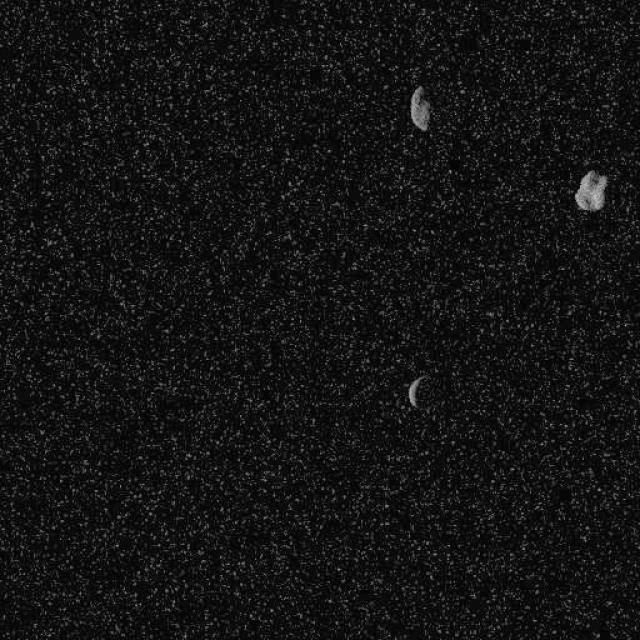D2: (574, 169, 608, 211), (409, 85, 431, 131), (406, 375, 426, 409)
